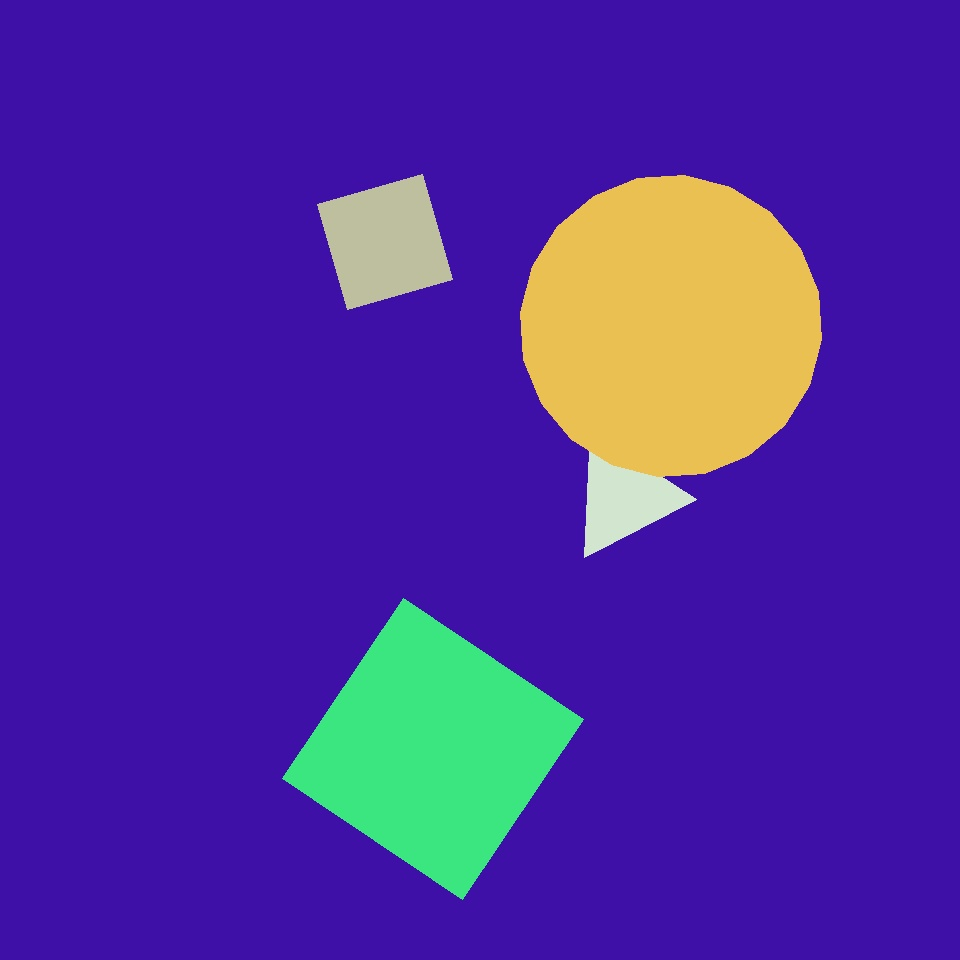circle: (484, 146, 676, 361), (568, 433, 680, 560)
square: (195, 443, 573, 821), (126, 151, 466, 491), (283, 598, 584, 899), (318, 174, 452, 310)
triangle: (293, 41, 621, 370), (520, 176, 822, 476), (295, 368, 527, 600)
